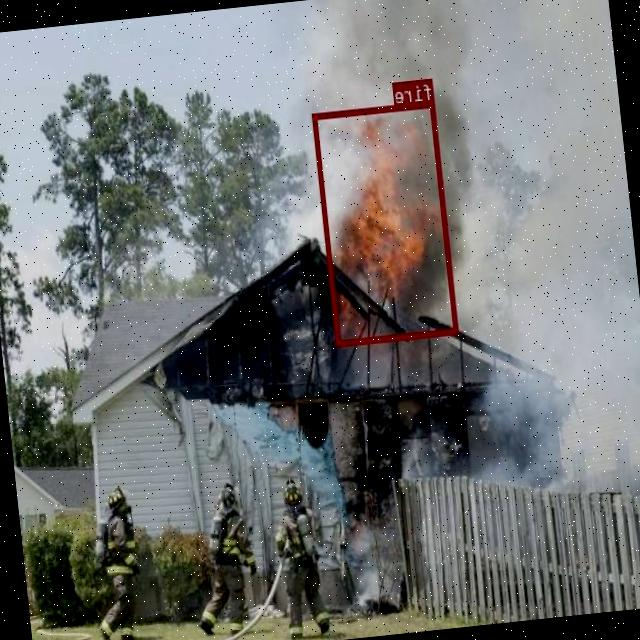fire: (312, 100, 459, 345)
